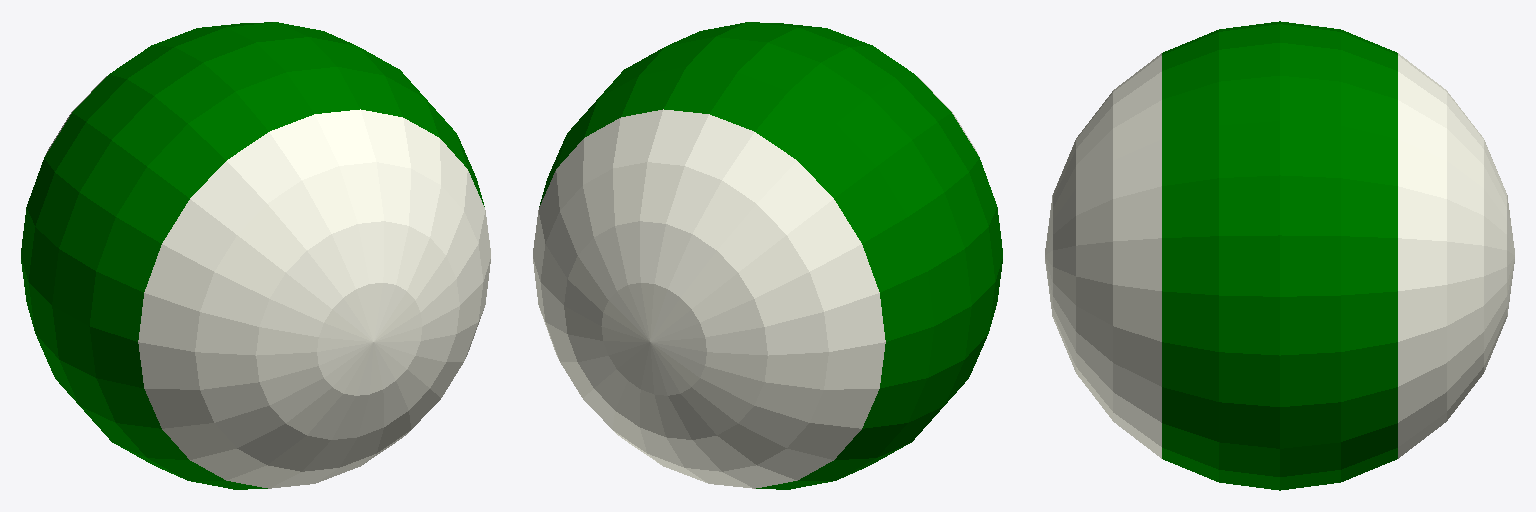
3 views of the same model, side by side, from view 1: azimuth 30°, elevation 25°; view 2: azimuth 150°, elevation 25°; view 3: azimuth 270°, elevation 25° (orthographic).
Visible parts, largest first — view 1: Mesh02_1, band1_3, top__14_1_9; view 2: Mesh01_0, band1_3, top__14_1_9; view 3: band1_3, Mesh01_0, Mesh02_1, top__14_1_9.
Boxes of the visible parts, x1,y1,x2,y2 form: Mesh02_1: [138, 109, 490, 488]; band1_3: [21, 23, 484, 488]; top__14_1_9: [156, 22, 355, 107]; Mesh01_0: [533, 109, 885, 488]; band1_3: [539, 23, 1002, 488]; top__14_1_9: [668, 22, 867, 107]; band1_3: [1162, 21, 1397, 490]; Mesh01_0: [1398, 53, 1514, 458]; Mesh02_1: [1045, 53, 1161, 458]; top__14_1_9: [1180, 22, 1379, 107].
Size of the model in its own units: 2.25 by 2.25 by 2.25.